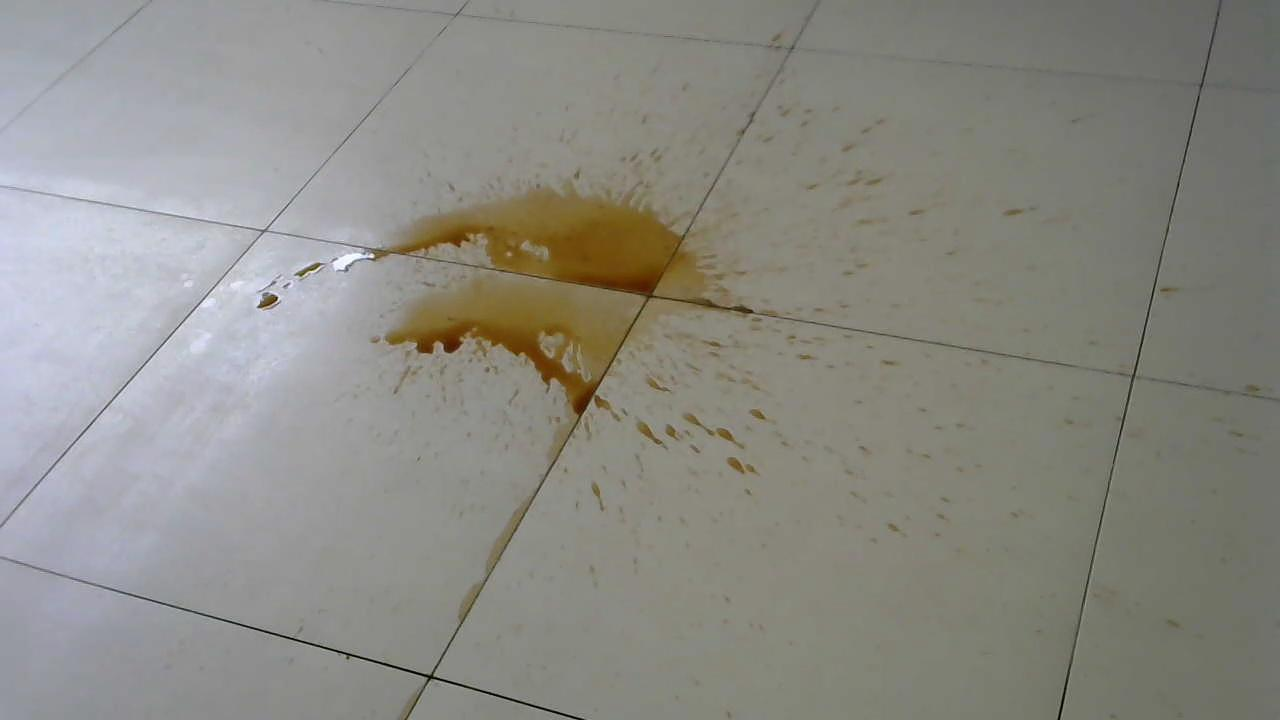dirty_floor: (250, 73, 1013, 547)
